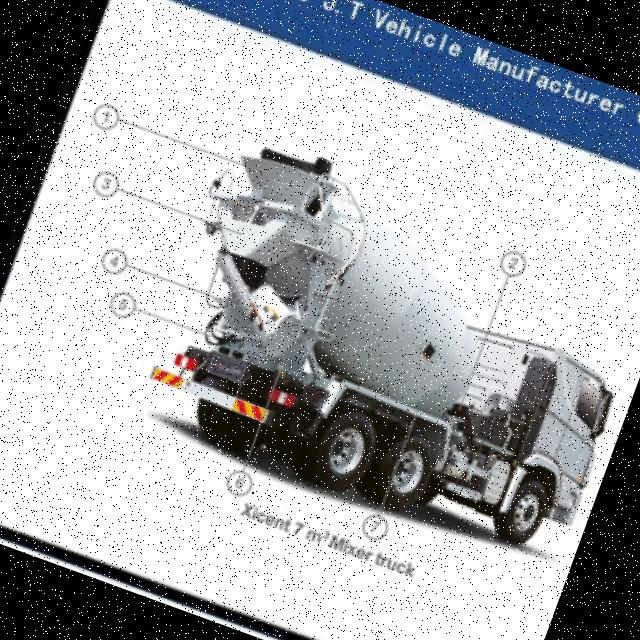Mixer Truck: (125, 125, 640, 575)
